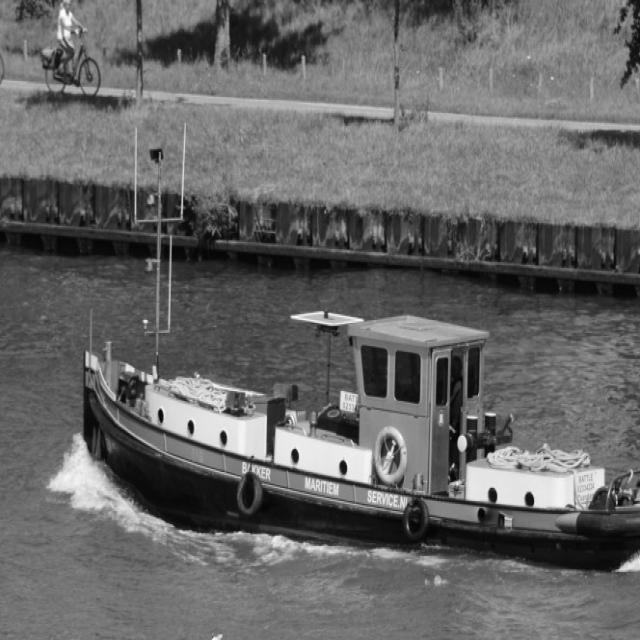tugboat: (79, 265, 640, 586)
